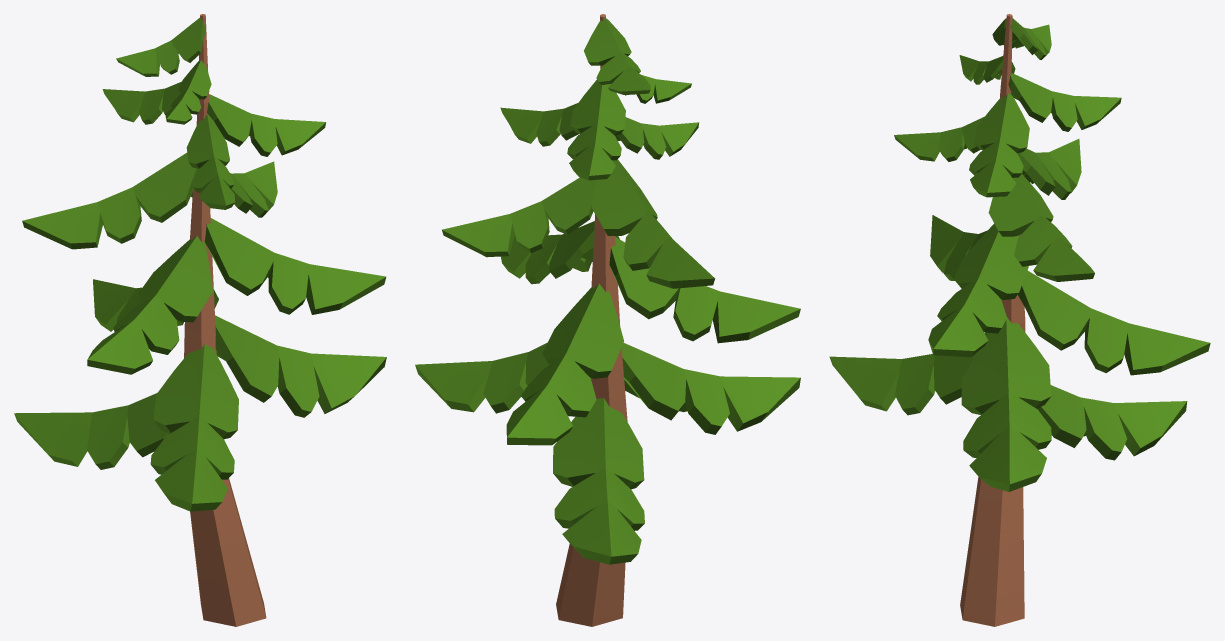
The model's file is TreeFirLight.fbx.
3 renders of one model, left to right at view 1: azimuth 30°, elevation 25°; view 2: azimuth 150°, elevation 25°; view 3: azimuth 270°, elevation 25°, orthographic. The views are drawn at different scales.
Visible parts, largest first — view 1: TreeFirLight_LOD0; view 2: TreeFirLight_LOD0; view 3: TreeFirLight_LOD0.
Part boxes in pixels (bbox=[...]): TreeFirLight_LOD0: bbox=[14, 14, 386, 626]; TreeFirLight_LOD0: bbox=[415, 14, 800, 626]; TreeFirLight_LOD0: bbox=[829, 14, 1210, 626].
Size of what is drawn, in the model's own units: 608 by 1021 by 602.
